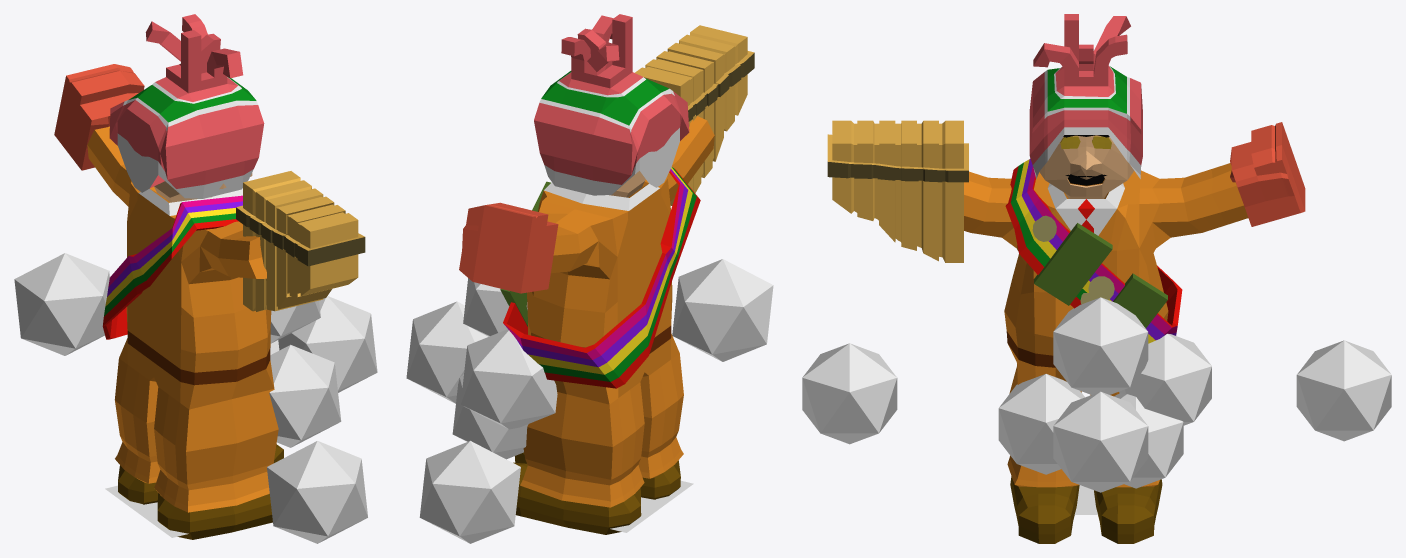
The model's file is agua.fbx.
3 renders of one model, left to right at view 1: azimuth 30°, elevation 25°; view 2: azimuth 150°, elevation 25°; view 3: azimuth 270°, elevation 25°, orthographic. The views are drawn at different scales.
Visible parts, largest first — view 1: Cube, Cube.001, Cube.003, Icosphere.001, Icosphere, Icosphere.002, Cube.012, Cube.002, Icosphere.005, Cube.007, Icosphere.004, Plane; view 2: Cube, Cube.001, Cube.012, Cube.003, Icosphere.001, Icosphere, Cube.002, Icosphere.006, Icosphere.005, Cube.007, Icosphere.003, Icosphere.004 (+3 smaller); view 3: Cube, Cube.003, Cube.001, Icosphere, Icosphere.001, Icosphere.005, Icosphere.004, Cube.007, Cube.002, Icosphere.002, Icosphere.006, Cube.012 (+4 smaller).
Part boxes in pixels (box(x1,y1,x2,y2)): Cube: box(87, 126, 278, 512); Cube.001: box(109, 14, 264, 198); Cube.003: box(236, 171, 365, 311); Icosphere.001: box(267, 441, 367, 543); Icosphere: box(14, 253, 109, 355); Icosphere.002: box(269, 344, 341, 447); Cube.012: box(102, 195, 242, 339); Cube.002: box(54, 64, 144, 170); Icosphere.005: box(278, 296, 377, 392); Cube.007: box(118, 444, 283, 539); Icosphere.004: box(270, 300, 320, 343); Plane: box(105, 485, 188, 537); Cube: box(520, 116, 714, 507); Cube.001: box(534, 14, 689, 195); Cube.012: box(503, 167, 700, 388); Cube.003: box(635, 25, 754, 205); Icosphere.001: box(672, 259, 773, 361); Icosphere: box(419, 440, 520, 543); Cube.002: box(459, 202, 558, 293); Icosphere.006: box(460, 329, 557, 429); Icosphere.005: box(406, 301, 488, 403); Cube.007: box(513, 452, 680, 534); Icosphere.003: box(452, 374, 528, 459); Icosphere.004: box(463, 278, 527, 336); Cube: box(964, 163, 1248, 487); Cube.003: box(827, 120, 968, 262); Cube.001: box(1029, 14, 1142, 178); Icosphere: box(1296, 340, 1391, 441); Icosphere.001: box(802, 343, 897, 444); Icosphere.005: box(1053, 391, 1148, 492); Icosphere.004: box(1053, 297, 1148, 394); Cube.007: box(1010, 476, 1162, 543); Cube.002: box(1230, 122, 1305, 226); Icosphere.002: box(998, 374, 1084, 474); Icosphere.006: box(1119, 333, 1211, 425); Cube.012: box(1005, 158, 1182, 343).
Size of the model in its own units: 433 by 789 by 894.
